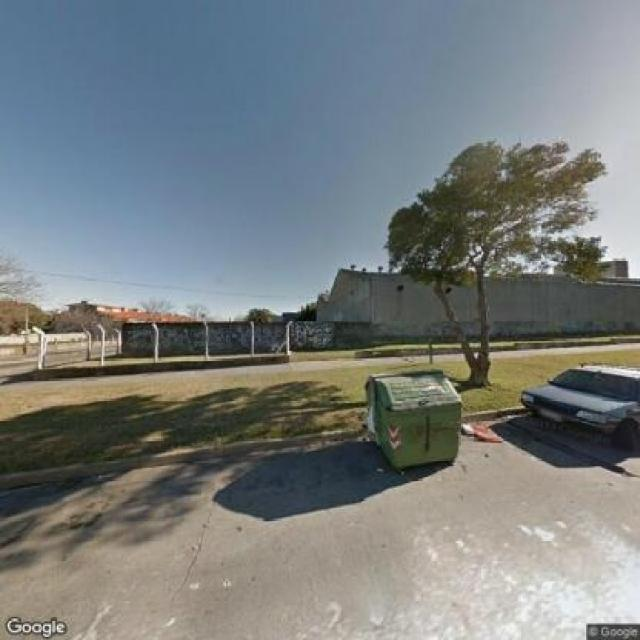garbage: (454, 417, 501, 448)
